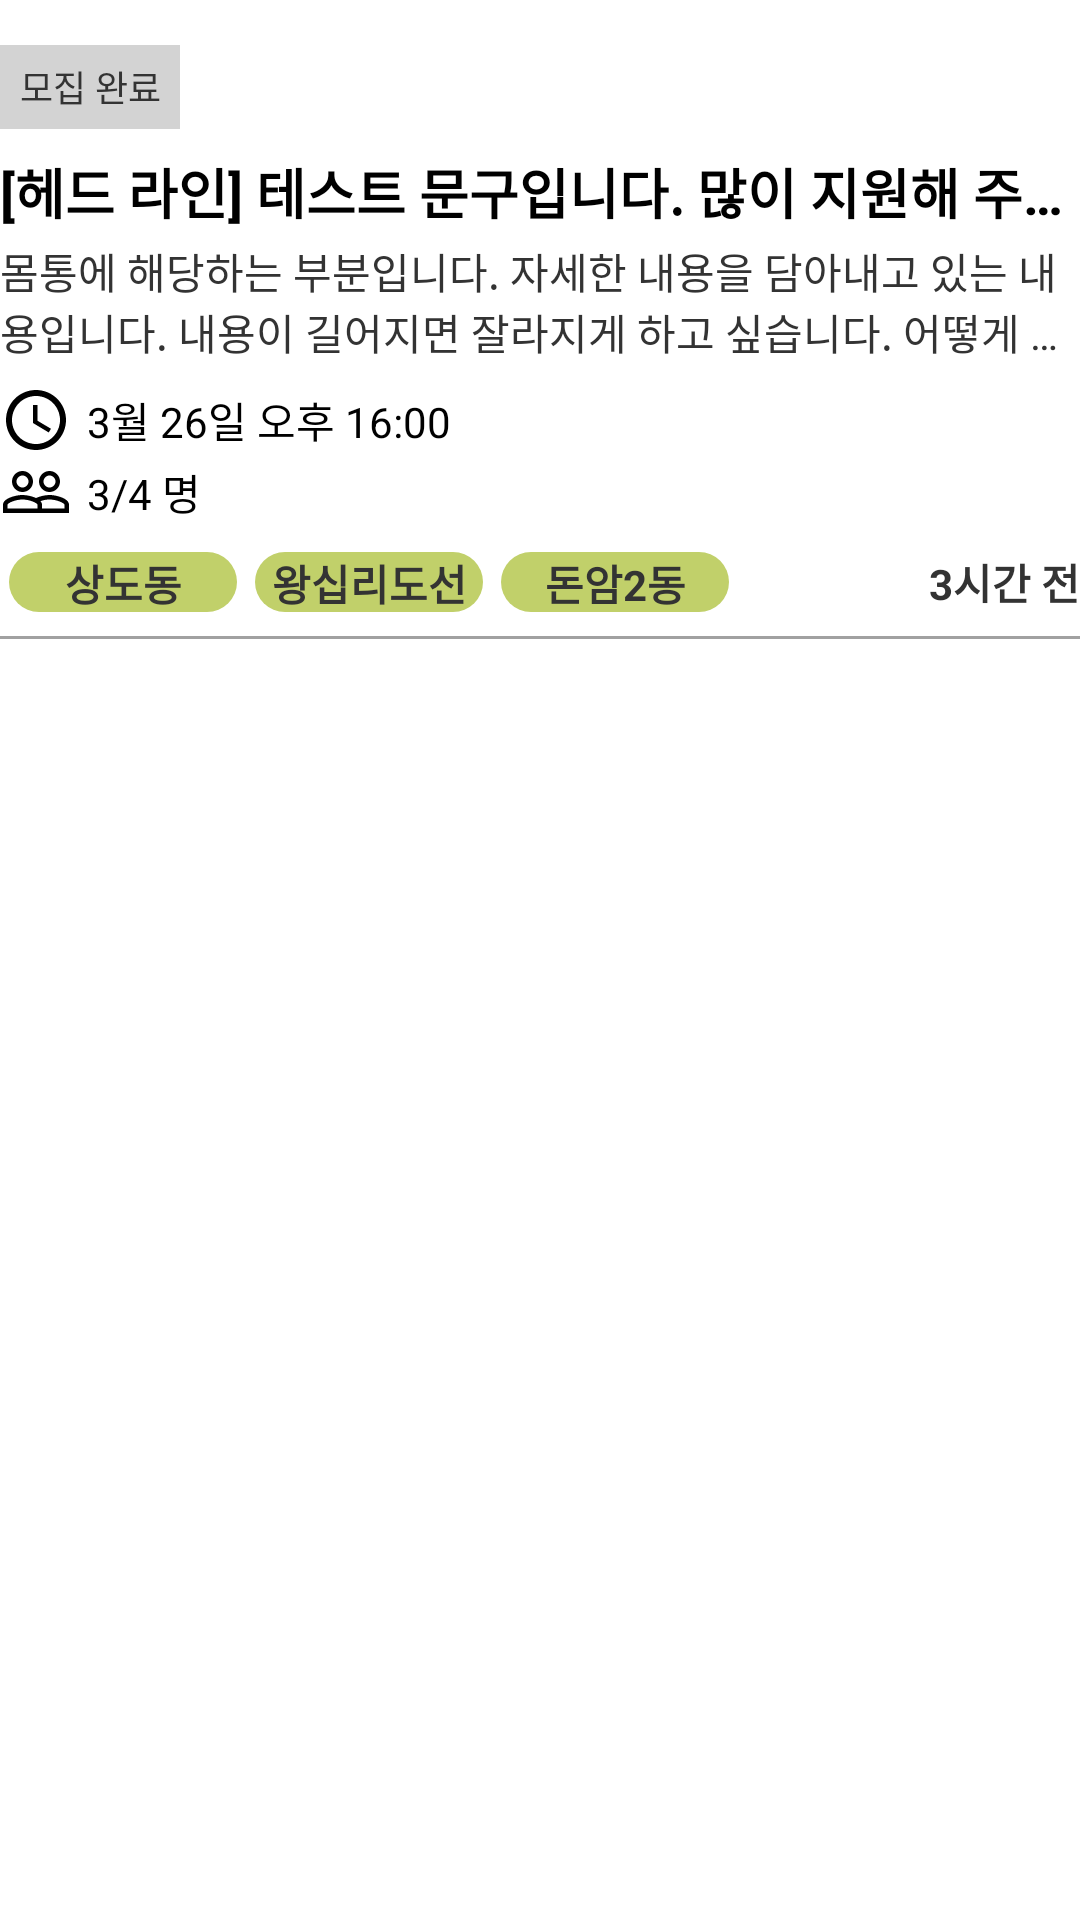

Screen size 1080*1920. Icon name, then its box in pixels as (x1, y1, x2, y2):
access time: (6, 390, 66, 450)
people: (3, 471, 69, 513)
